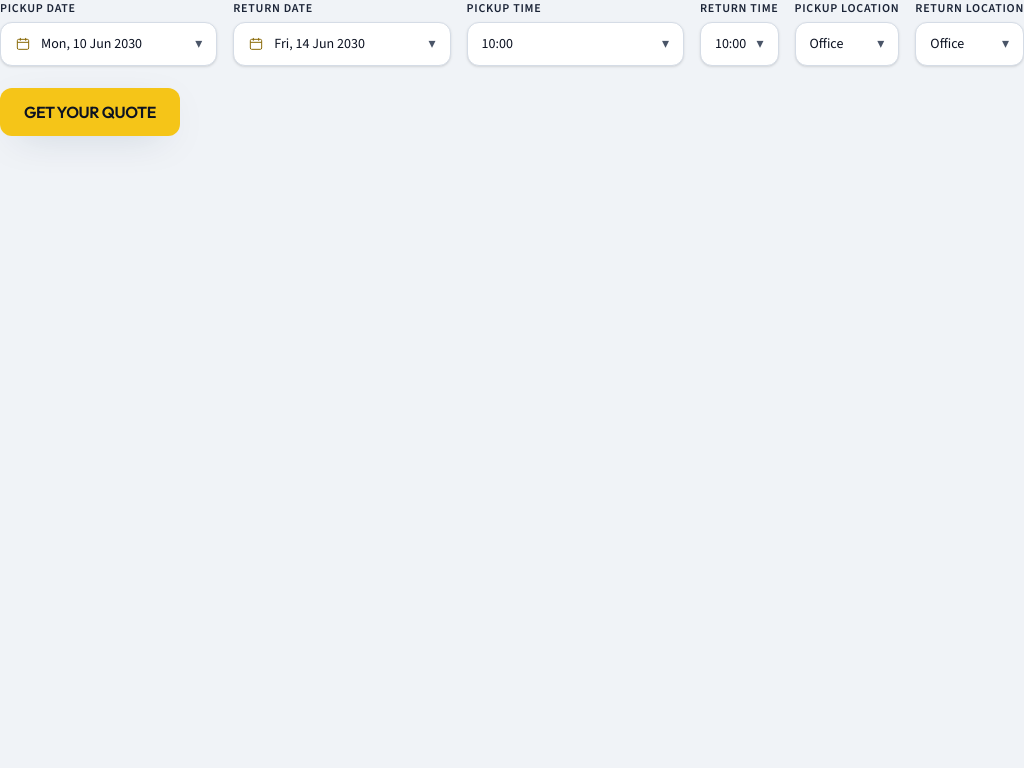
Test: SearchForm › updates pickup date via calendar and keeps return on or after pickup
Click the button named "Pickup date": (109, 44) left=0, top=22, right=217, bottom=66
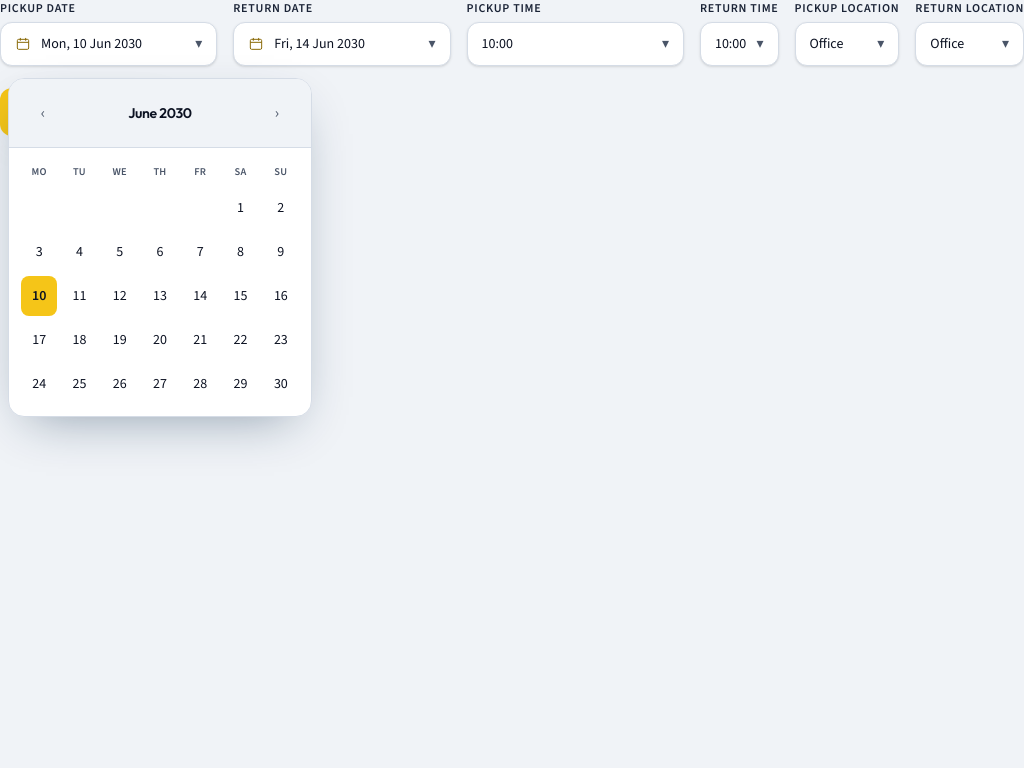
Click the button named "2030-06-12": (120, 296) left=102, top=276, right=138, bottom=316
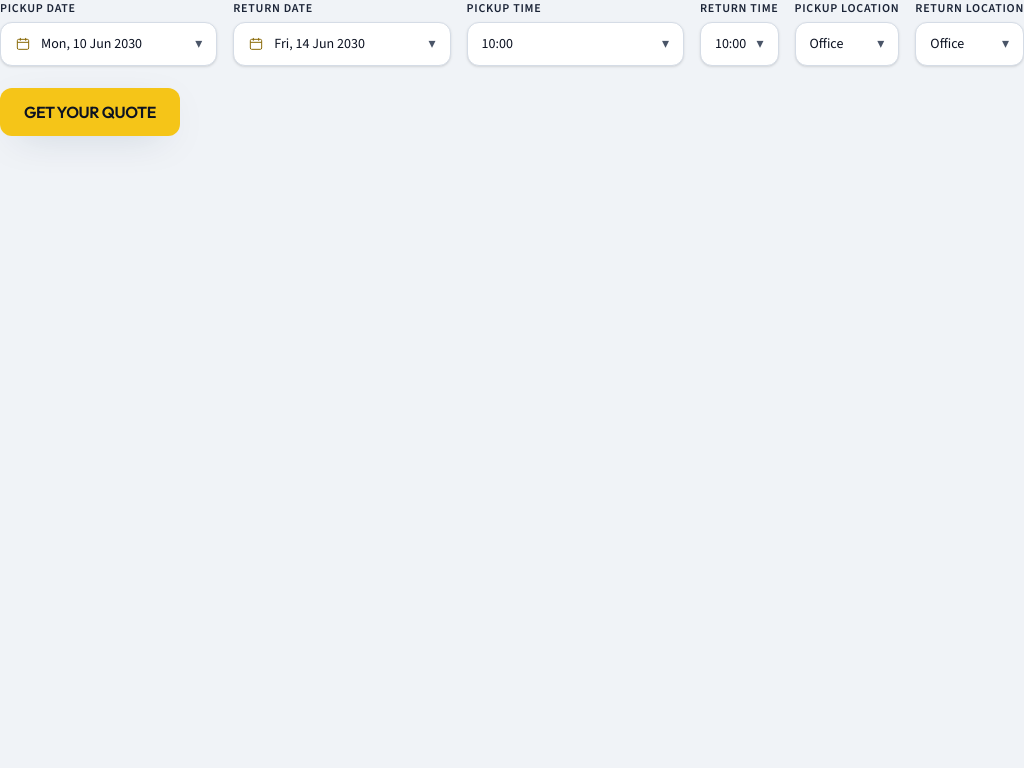
Click the button named "Return date": (342, 44) left=233, top=22, right=451, bottom=66
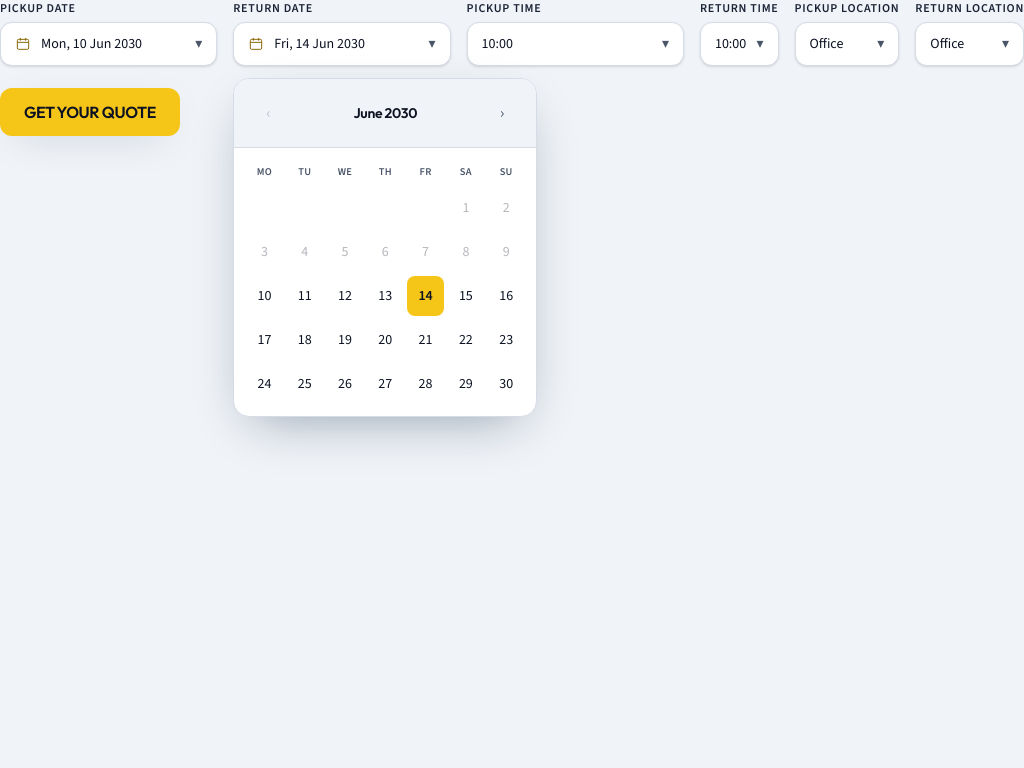
Expected: the button named "2030-06-09" is disabled, left=488, top=232, right=524, bottom=272
Expected: the button named "2030-06-10" is enabled, left=246, top=276, right=283, bottom=316
